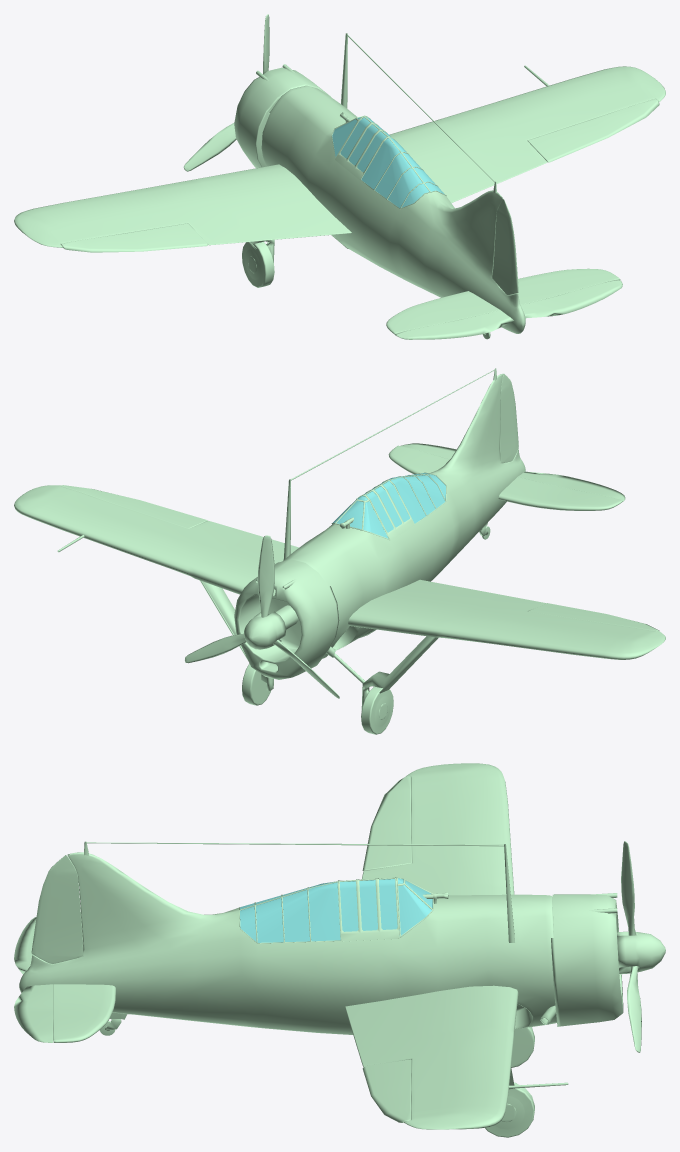
The model's file is F2A_Buffalo_CrashLanding.fbx.
3 renders of one model, top to bottom at view 1: azimuth 30°, elevation 25°; view 2: azimuth 150°, elevation 25°; view 3: azimuth 270°, elevation 25°, orthographic. The views are drawn at different scales.
Parts seen in each view (by area): view 1: F2A_Buffalo; view 2: F2A_Buffalo; view 3: F2A_Buffalo.
Boxes of the visible parts, bbox=[...] form: F2A_Buffalo: bbox=[14, 14, 665, 339]; F2A_Buffalo: bbox=[14, 368, 665, 734]; F2A_Buffalo: bbox=[14, 763, 665, 1137].
Size of the model in its own units: 1055 by 368 by 796.
